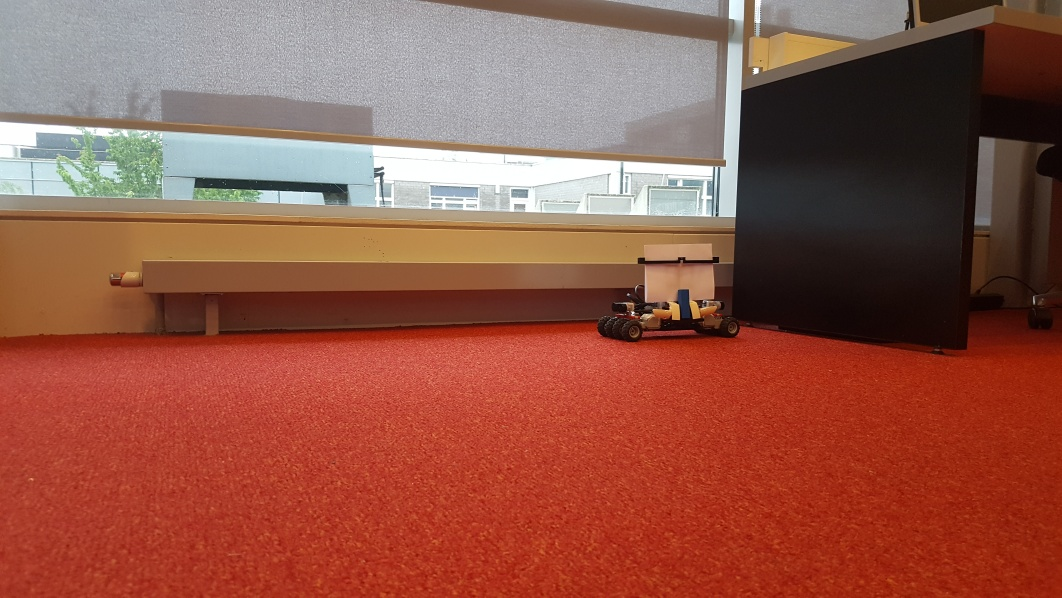car: (596, 241, 741, 341)
